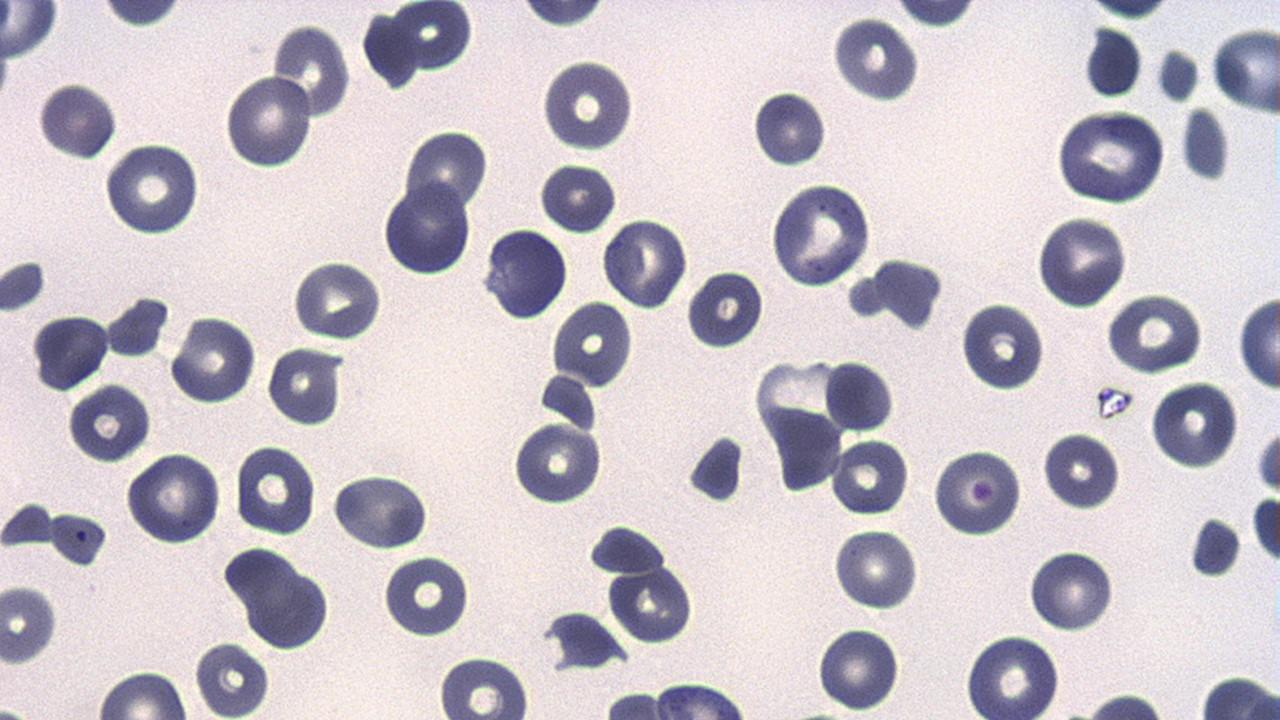Platelets: (829, 17, 923, 105), (35, 80, 120, 163), (1207, 23, 1280, 117), (748, 86, 829, 170), (535, 159, 618, 233), (1, 580, 59, 666), (1079, 24, 1145, 98), (1173, 106, 1233, 183), (587, 524, 671, 578), (684, 432, 746, 505), (48, 510, 110, 570), (1187, 514, 1243, 580), (1154, 48, 1202, 106), (0, 259, 49, 312), (1250, 492, 1280, 566), (848, 272, 888, 320), (1254, 424, 1280, 497), (1090, 0, 1168, 20)
RBC: (767, 178, 875, 288), (1053, 106, 1165, 206), (538, 54, 636, 155), (103, 139, 201, 236), (125, 449, 222, 547), (381, 179, 474, 277), (1036, 212, 1128, 310), (223, 71, 312, 172), (960, 630, 1062, 718), (929, 447, 1024, 539), (831, 12, 922, 106), (602, 214, 688, 312), (272, 19, 352, 124), (1147, 378, 1237, 470), (960, 297, 1045, 394), (1104, 292, 1204, 374), (509, 420, 604, 506), (169, 313, 257, 405), (331, 470, 432, 550), (232, 442, 316, 538), (1027, 546, 1117, 634), (380, 552, 472, 637), (289, 258, 383, 341), (832, 524, 920, 612), (606, 560, 696, 646), (815, 622, 901, 712), (549, 298, 634, 389), (404, 126, 492, 212), (64, 381, 151, 464), (1040, 427, 1122, 512), (1207, 23, 1279, 118), (829, 434, 910, 518), (190, 637, 274, 717), (684, 267, 764, 350), (266, 342, 343, 428), (31, 311, 112, 391), (434, 653, 535, 717), (538, 157, 618, 236), (394, 2, 474, 75), (822, 357, 894, 434), (92, 666, 192, 718), (360, 9, 421, 93), (0, 581, 58, 667), (1236, 291, 1280, 390), (1, 1, 62, 63), (1254, 420, 1280, 494)
WBC: (224, 543, 335, 653), (766, 178, 876, 289), (1052, 106, 1170, 206), (479, 224, 571, 323), (329, 469, 433, 550), (604, 558, 696, 646), (30, 310, 110, 394), (636, 682, 765, 720), (1, 0, 64, 61), (514, 0, 612, 30), (886, 0, 982, 30), (97, 1, 185, 30)
